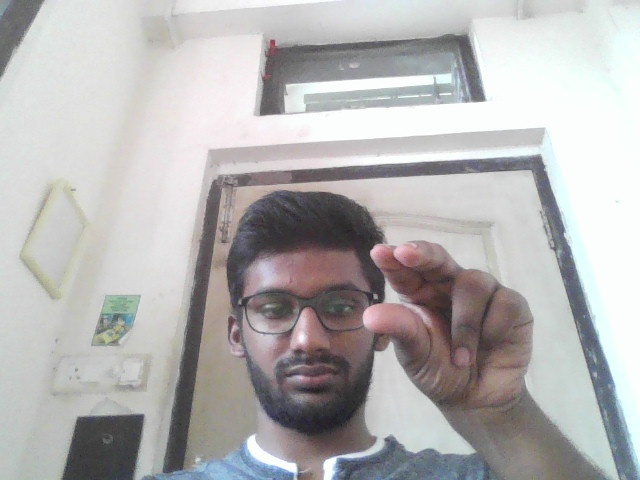No: (363, 236, 545, 410)
